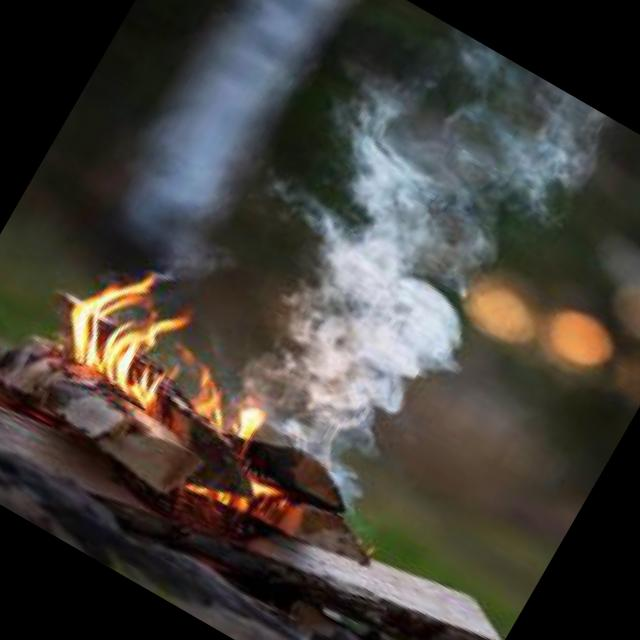fire: (20, 233, 267, 457)
smoke: (151, 0, 637, 526)
